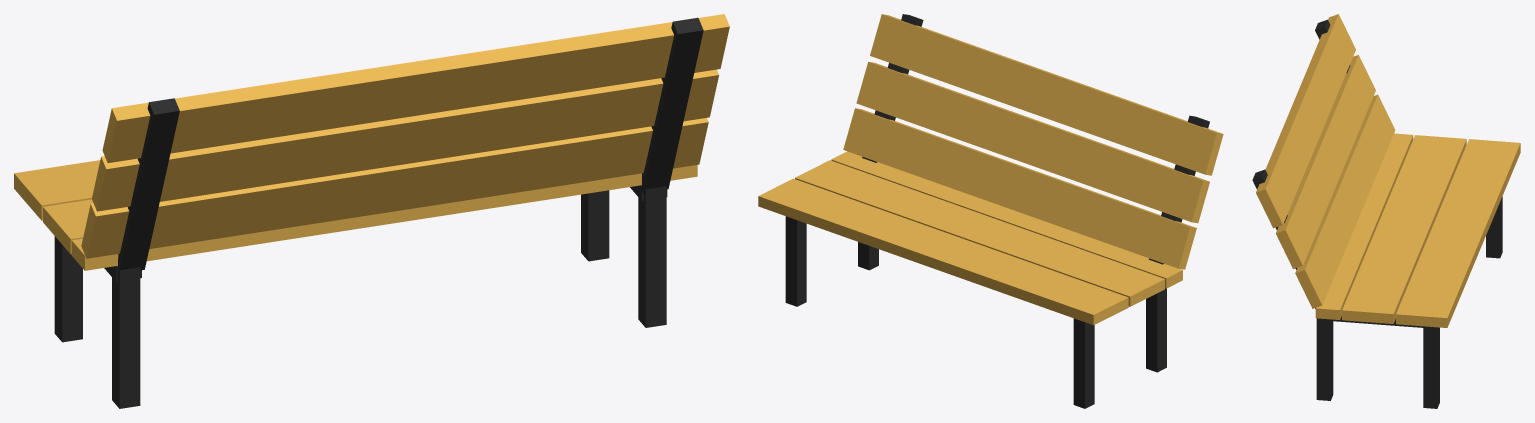
File: Bench2_Normalized.glb
3 views of the same model, side by side, from view 1: azimuth 30°, elevation 25°; view 2: azimuth 150°, elevation 25°; view 3: azimuth 270°, elevation 25° (orthographic). The views are drawn at different scales.
Visible parts, largest first — view 1: Box014, Box013, Box012, Box007, Box010, Box011, Box004, Box001, Box005, Box003, Box002, Box006; view 2: Box014, Box012, Box013, Box005, Box006, Box007, Box002, Box003, Box004, Box001, Box010, Box011; view 3: Box005, Box006, Box014, Box013, Box012, Box007, Box001, Box002, Box003, Box008.
Part boxes in pixels (x1,y1,x2,y2): Box014: (102,14,729,162); Box013: (92,69,718,211); Box012: (81,118,708,258); Box007: (71,165,697,270); Box010: (641,17,703,192); Box011: (118,98,179,270); Box004: (112,258,140,408); Box001: (638,186,666,327); Box005: (14,160,100,220); Box003: (54,236,82,342); Box002: (581,190,609,261); Box006: (43,199,93,254); Box014: (870,14,1223,175); Box012: (843,108,1196,269); Box013: (856,62,1209,223); Box005: (758,178,1128,325); Box006: (795,160,1164,306); Box007: (831,151,1182,288); Box002: (785,216,806,306); Box003: (1073,318,1094,408); Box004: (1146,288,1166,372); Box001: (858,242,878,270); Box010: (862,14,923,162); Box011: (1148,115,1209,264); Box005: (1396,139,1520,327); Box006: (1342,135,1466,323); Box014: (1256,14,1355,228); Box013: (1276,55,1375,268); Box012: (1295,94,1395,308); Box007: (1315,133,1413,319); Box001: (1316,318,1333,400); Box002: (1423,326,1439,408); Box003: (1486,196,1502,258); Box008: (1319,316,1427,328).
Bounding box in the file's own units: 2.1 × 1.14 × 1.26.
